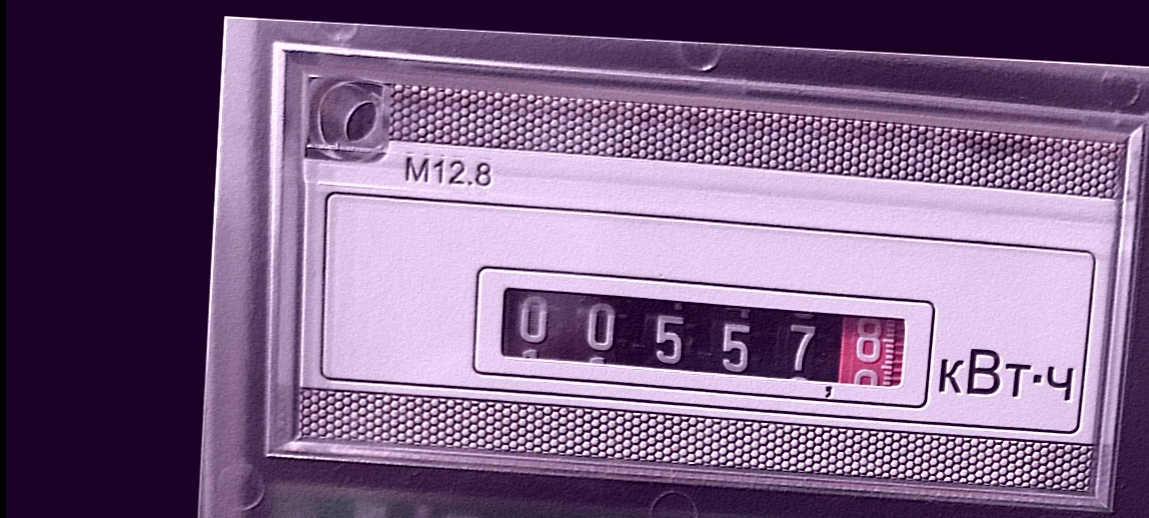0: (515, 290, 553, 348), (583, 299, 619, 353)
5: (717, 316, 757, 376), (651, 310, 688, 368)
7: (782, 319, 818, 375)
8: (854, 315, 885, 366)
screen: (467, 258, 941, 414)
